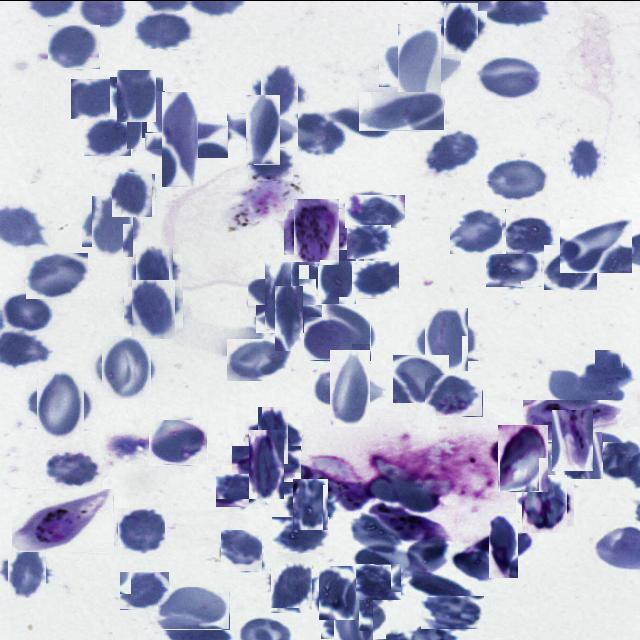difficult: (12, 488, 114, 552)
gametocyte: (289, 203, 345, 259)
red blood cell: (148, 106, 214, 172), (388, 33, 452, 96), (560, 218, 632, 272), (320, 358, 380, 418), (494, 428, 553, 487), (32, 375, 90, 433), (359, 91, 445, 130), (548, 367, 624, 409), (98, 338, 154, 394), (158, 586, 230, 629), (419, 312, 474, 366), (476, 56, 543, 100), (304, 316, 371, 360), (25, 252, 88, 298), (236, 102, 288, 156), (484, 158, 548, 201), (149, 418, 208, 464), (86, 199, 138, 251), (519, 477, 571, 529), (240, 437, 292, 489), (393, 354, 449, 402), (227, 338, 291, 380), (128, 282, 179, 334), (256, 270, 308, 320), (450, 208, 506, 254), (289, 110, 347, 154), (328, 592, 380, 640), (425, 374, 483, 416), (544, 244, 597, 289), (48, 23, 100, 68), (426, 128, 481, 170), (118, 506, 166, 554), (122, 95, 170, 143), (315, 568, 363, 615), (479, 520, 526, 568), (135, 10, 194, 48), (46, 449, 102, 489), (71, 78, 127, 118), (556, 431, 603, 478), (266, 294, 312, 342), (486, 248, 542, 287), (421, 594, 485, 628), (268, 563, 315, 609), (256, 68, 302, 114), (4, 548, 50, 594), (114, 73, 160, 119), (0, 290, 54, 329), (314, 253, 359, 299), (132, 249, 178, 294), (272, 516, 329, 552), (345, 192, 405, 226), (502, 216, 557, 253), (562, 134, 606, 180), (252, 412, 296, 457), (288, 482, 332, 526), (120, 571, 170, 609), (440, 6, 483, 49), (111, 172, 154, 215), (84, 118, 132, 156), (450, 544, 498, 582), (352, 260, 400, 298), (221, 529, 263, 571), (588, 355, 630, 396), (356, 563, 402, 600), (216, 473, 266, 507), (347, 224, 391, 258), (248, 147, 293, 180)
trophozoite: (538, 384, 608, 456)
